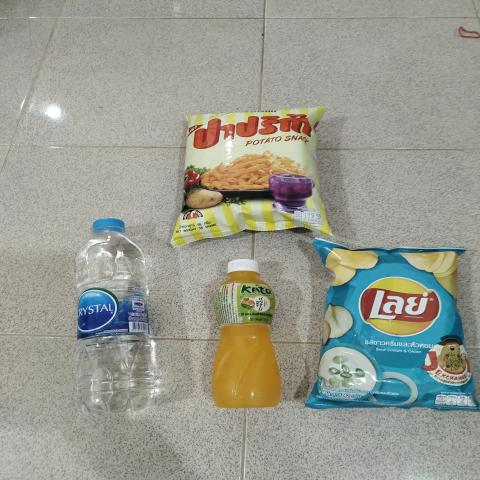crystal: (84, 206, 155, 402)
lay_blue: (313, 253, 454, 402)
paprika: (190, 111, 324, 226)
